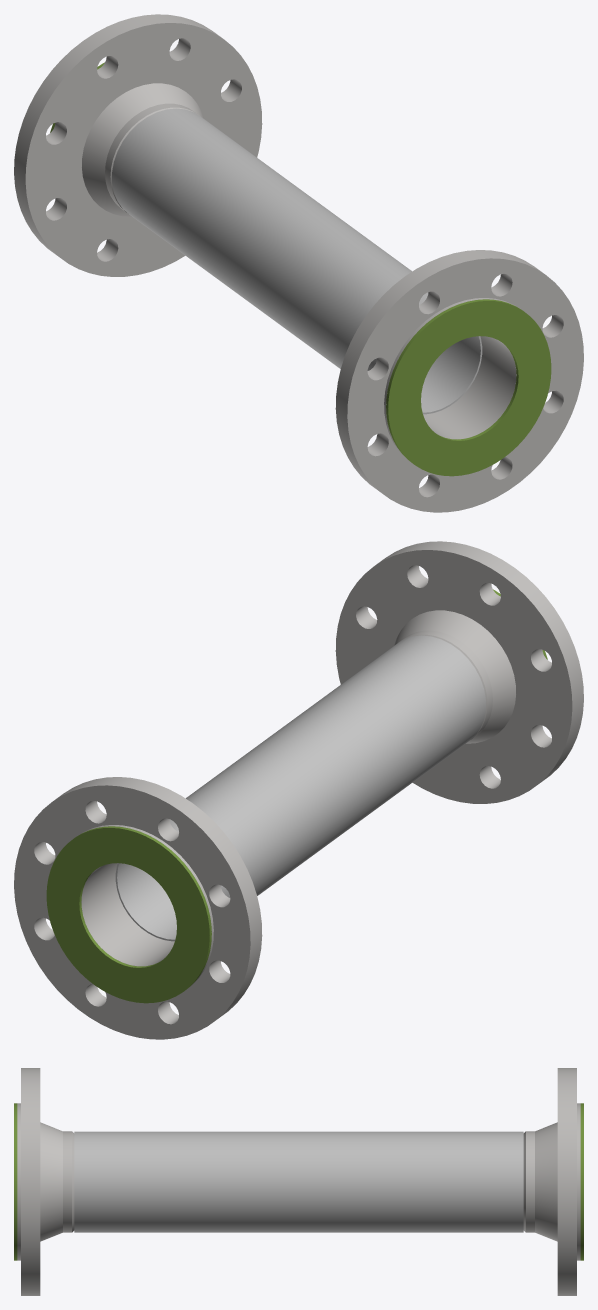
Rendered from Rohr mit Flansch DN80 (beidseitig).obj.
The picture shows the model from 3 angles, top to bottom: view 1: azimuth 30°, elevation 25°; view 2: azimuth 150°, elevation 25°; view 3: azimuth 270°, elevation 25°; orthographic projection. The views are drawn at different scales.
Visible parts, largest first — view 1: Volumenkörper1, Solid1:1, Solid1, Volumenkörper1:1; view 2: Volumenkörper1, Solid1, Solid1:1, Volumenkörper1:2; view 3: Volumenkörper1, Solid1, Solid1:1, Volumenkörper1:1, Volumenkörper1:2.
Boxes of the visible parts, x1,y1,x2,y2 form: Volumenkörper1: (112,108,482,414); Solid1:1: (14,14,262,276); Solid1: (335,250,583,512); Volumenkörper1:1: (386,299,551,476); Volumenkörper1: (115,635,485,941); Solid1: (335,541,583,803); Solid1:1: (14,777,262,1039); Volumenkörper1:2: (46,826,211,1003); Volumenkörper1: (74,1131,523,1232); Solid1: (17,1068,74,1295); Solid1:1: (523,1068,580,1295); Volumenkörper1:1: (14,1103,17,1260); Volumenkörper1:2: (580,1103,583,1260).
Size of the model in its own units: 200 by 200 by 500.
